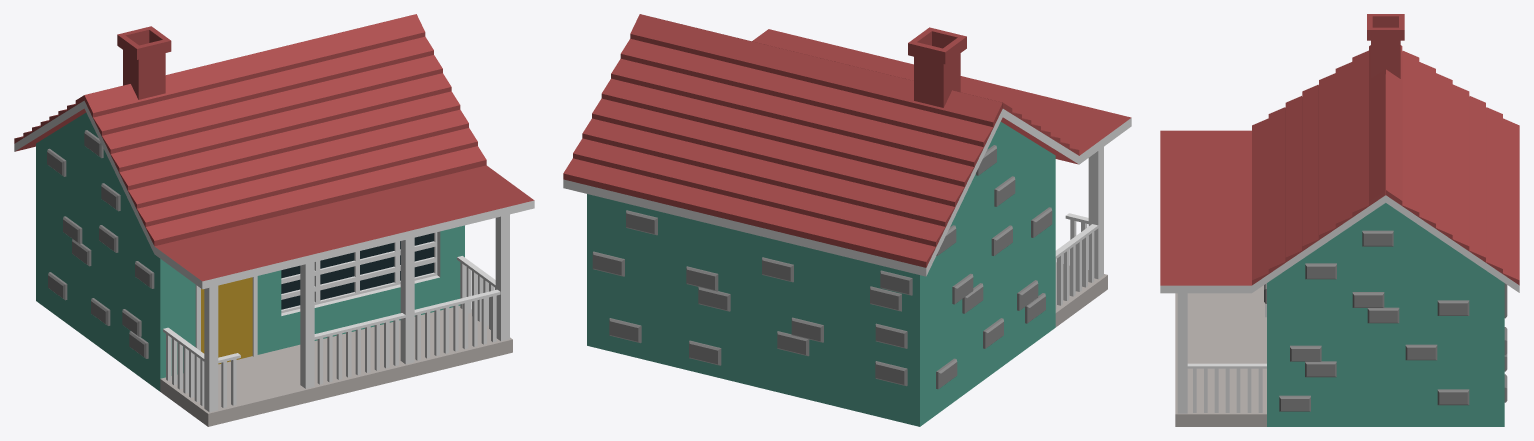
File: 25 House_6.fbx
3 renders of one model, left to right at view 1: azimuth 30°, elevation 25°; view 2: azimuth 150°, elevation 25°; view 3: azimuth 270°, elevation 25°, orthographic. The views are drawn at different scales.
Parts seen in each view (by area): view 1: House_6; view 2: House_6; view 3: House_6.
Part boxes in pixels (<box>): House_6: <box>14,14,534,426</box>; House_6: <box>563,14,1131,426</box>; House_6: <box>1160,14,1519,426</box>.
Bounding box in the file's own units: 121 × 104 × 119.
